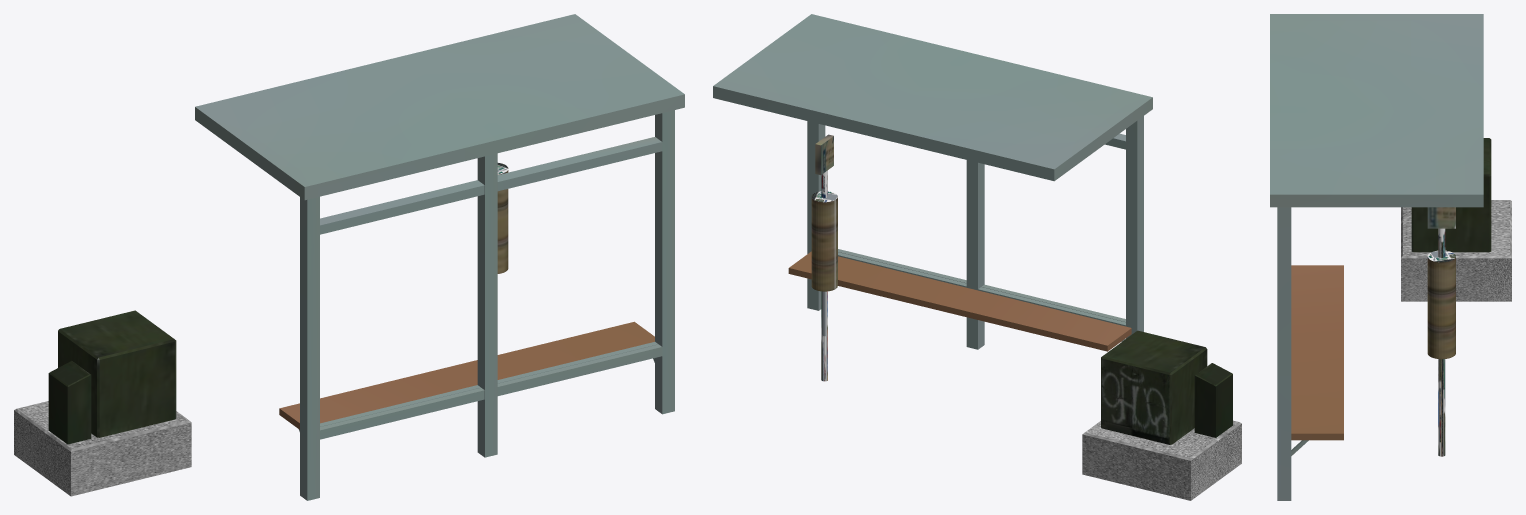
Rendered from BusStation.fbx.
3 views of the same model, side by side, from view 1: azimuth 30°, elevation 25°; view 2: azimuth 150°, elevation 25°; view 3: azimuth 270°, elevation 25° (orthographic). The views are drawn at different scales.
Visible parts, largest first — view 1: BusStation; view 2: BusStation; view 3: BusStation.
Part boxes in pixels (<box>): BusStation: <box>14,14,684,500</box>; BusStation: <box>713,14,1241,500</box>; BusStation: <box>1270,14,1511,500</box>.
Size of the model in its own units: 4.31 by 2.4 by 1.7.
Materials: 1 (1 with a texture image).
